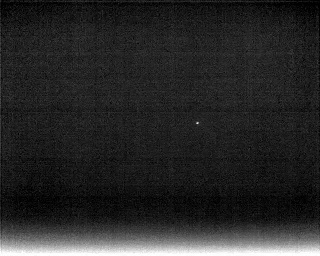AIRPLANE: (194, 118, 202, 128)
